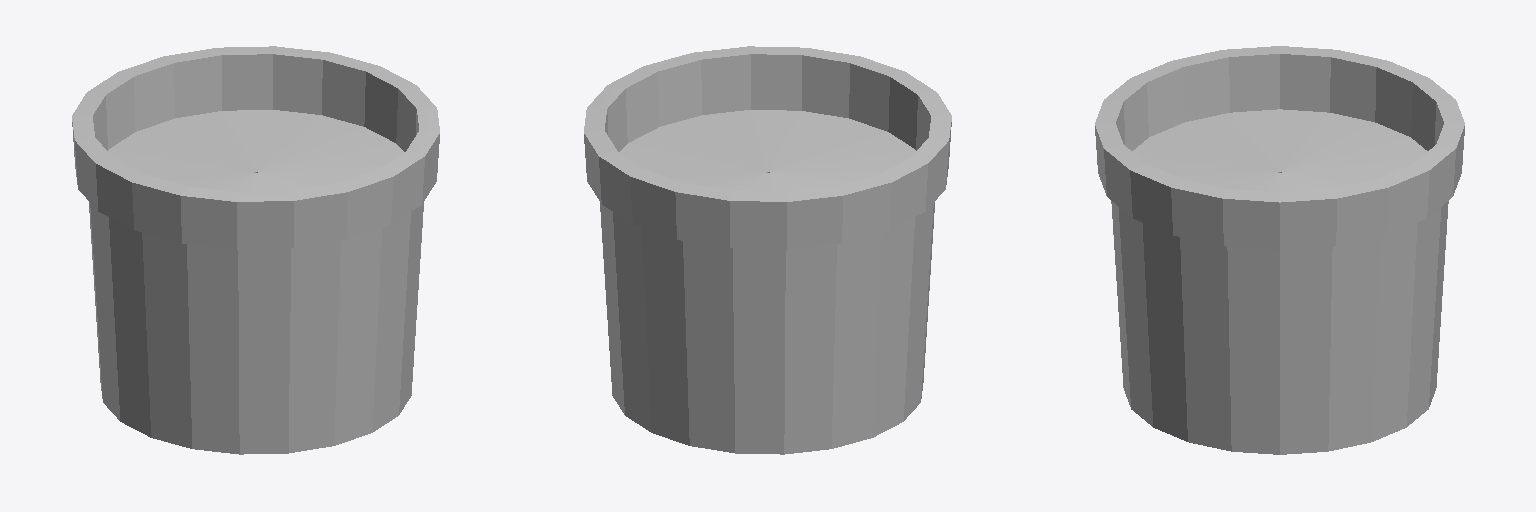
The model's file is pot.obj.
3 renders of one model, left to right at view 1: azimuth 30°, elevation 25°; view 2: azimuth 150°, elevation 25°; view 3: azimuth 270°, elevation 25°, orthographic.
Visible parts, largest first — view 1: pPipe1; view 2: pPipe1; view 3: pPipe1.
Part boxes in pixels (x1,y1,x2,y2): pPipe1: (72, 46, 439, 454); pPipe1: (584, 46, 951, 454); pPipe1: (1095, 46, 1464, 454).
Bounding box in the file's own units: 10.65 × 8.43 × 10.65.